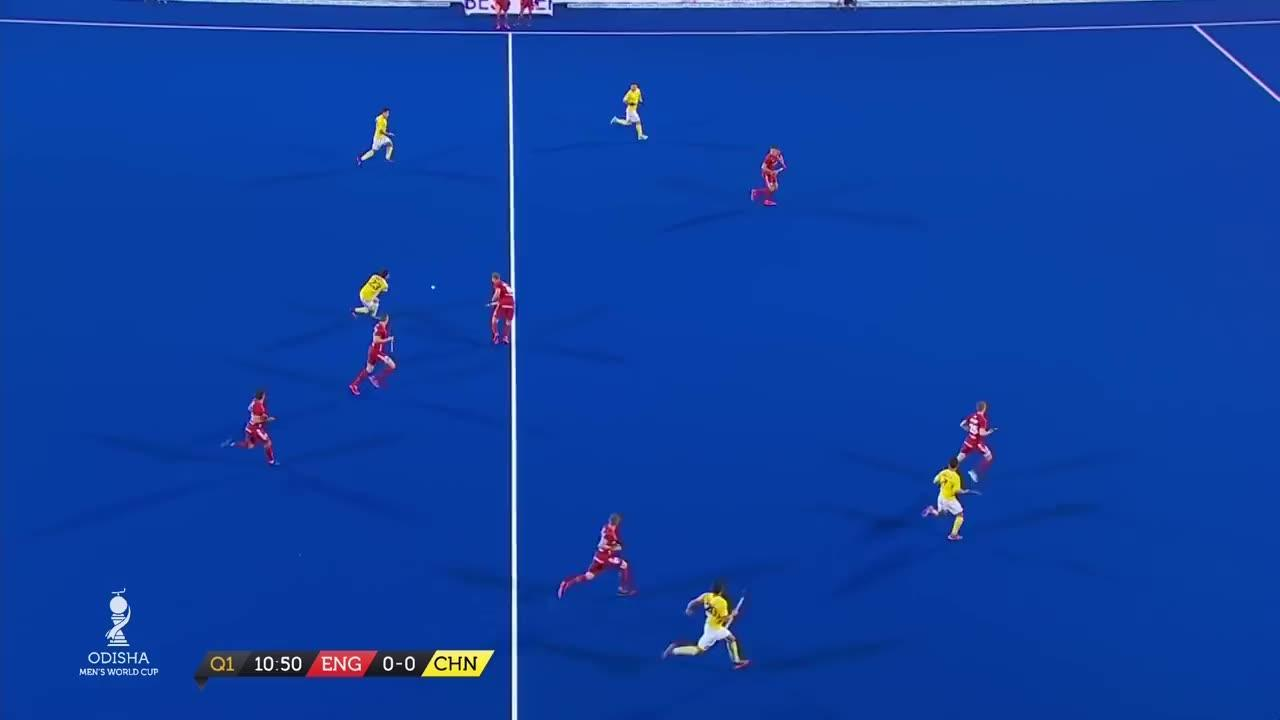ball: (430, 280, 438, 292)
